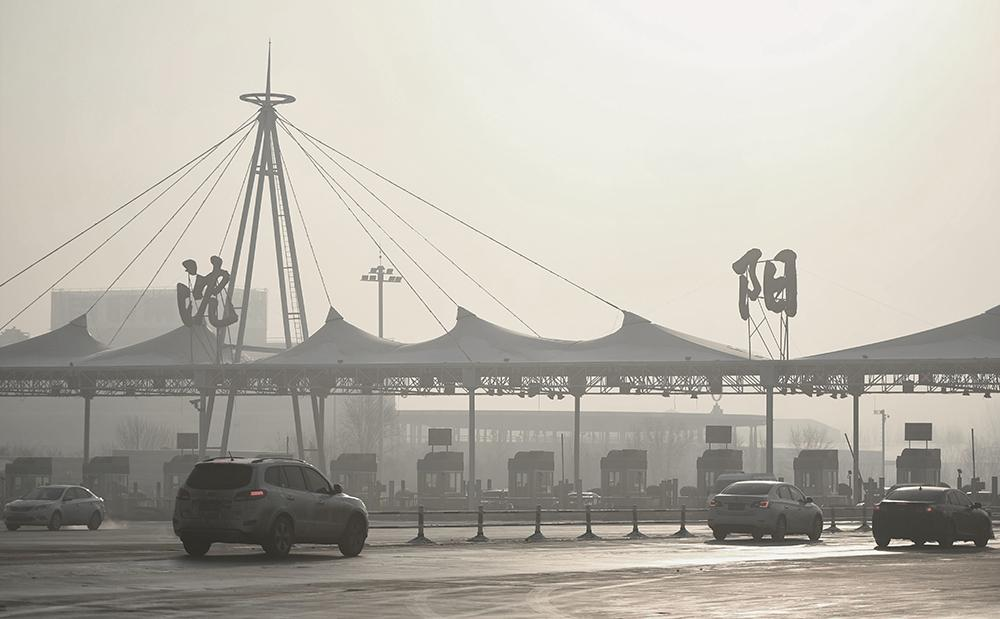car: (172, 447, 370, 557), (702, 478, 826, 543), (874, 484, 996, 550), (2, 482, 105, 530), (704, 471, 782, 520)
